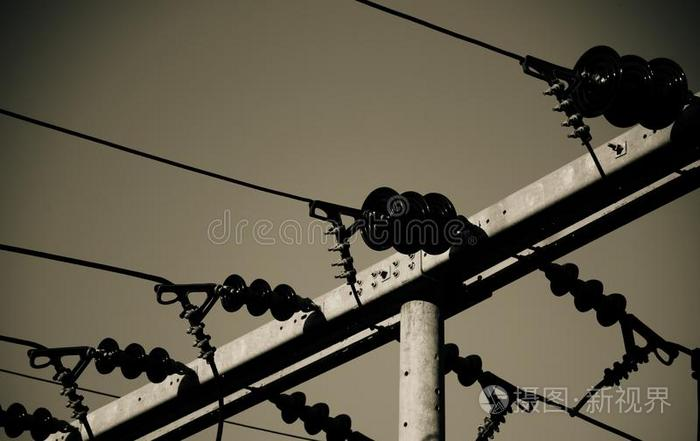insulator: (570, 43, 685, 130), (362, 185, 457, 259), (553, 261, 631, 323), (280, 389, 355, 441), (218, 275, 298, 322), (93, 337, 173, 383), (1, 401, 54, 439), (442, 345, 485, 389)
